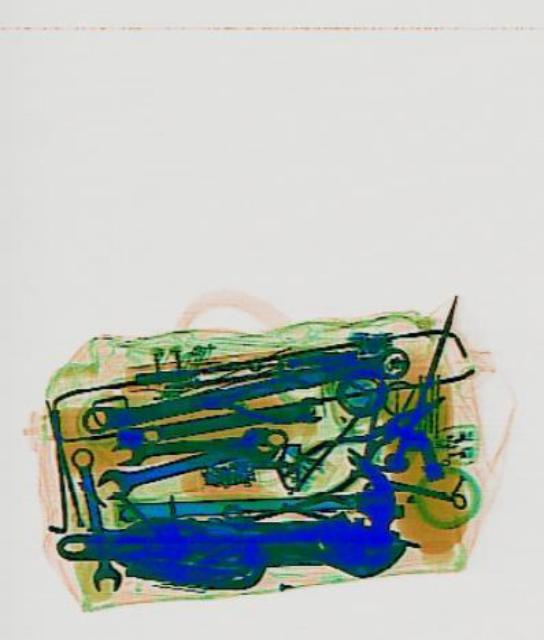Wrench: (76, 343, 408, 437), (52, 506, 402, 582), (92, 422, 271, 502), (64, 443, 122, 593), (109, 422, 286, 464)
